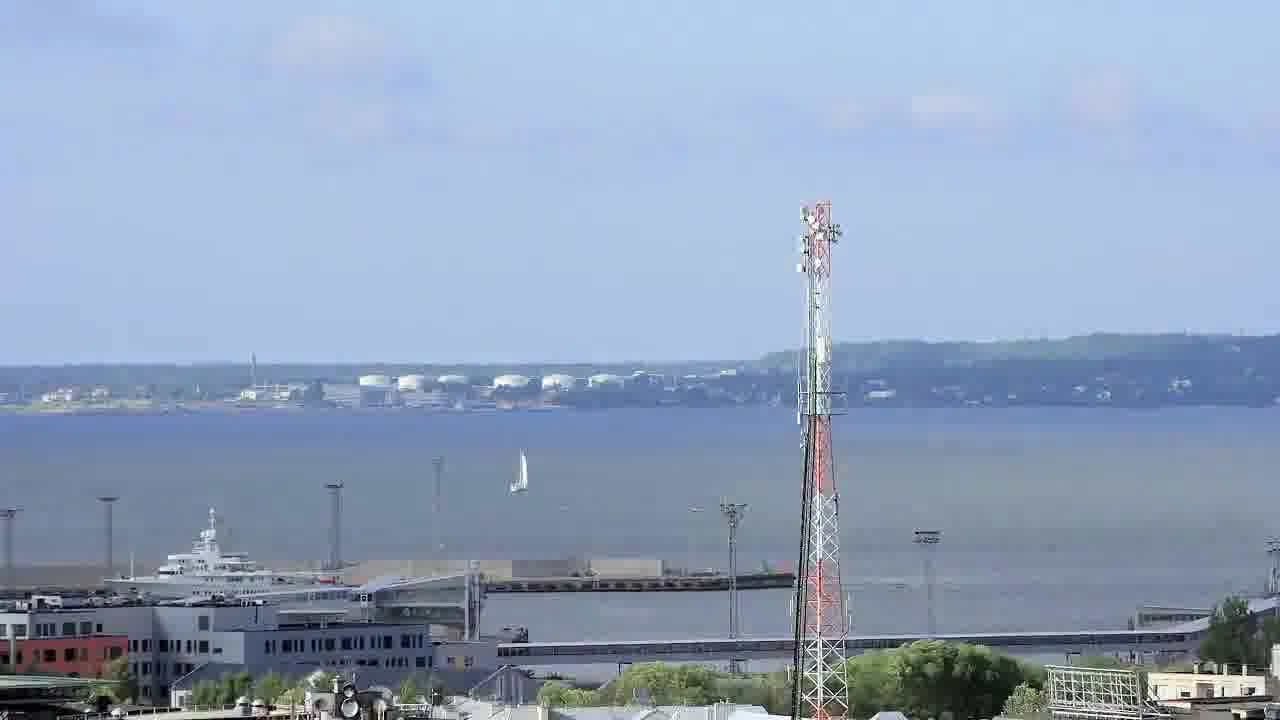type-2: (474, 436, 549, 513)
type-3: (84, 515, 355, 603)
